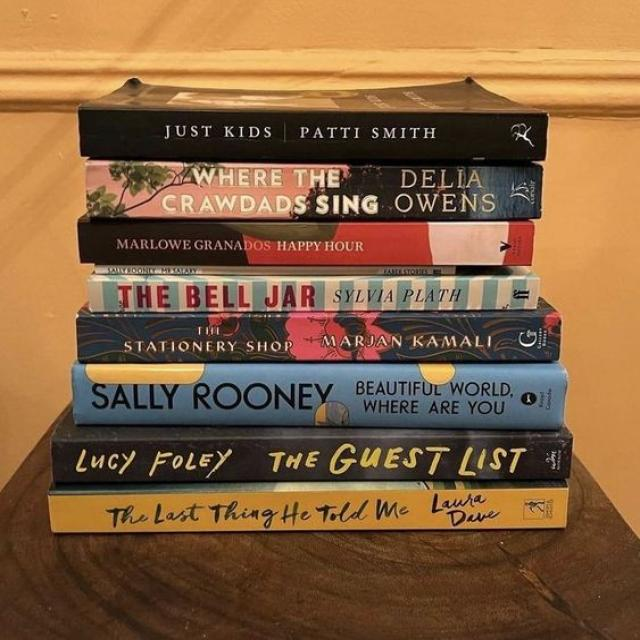book: (52, 420, 572, 489), (73, 362, 567, 430), (86, 160, 541, 220), (80, 105, 546, 163), (48, 482, 568, 532), (78, 314, 560, 363), (89, 267, 538, 318), (78, 220, 533, 266)
